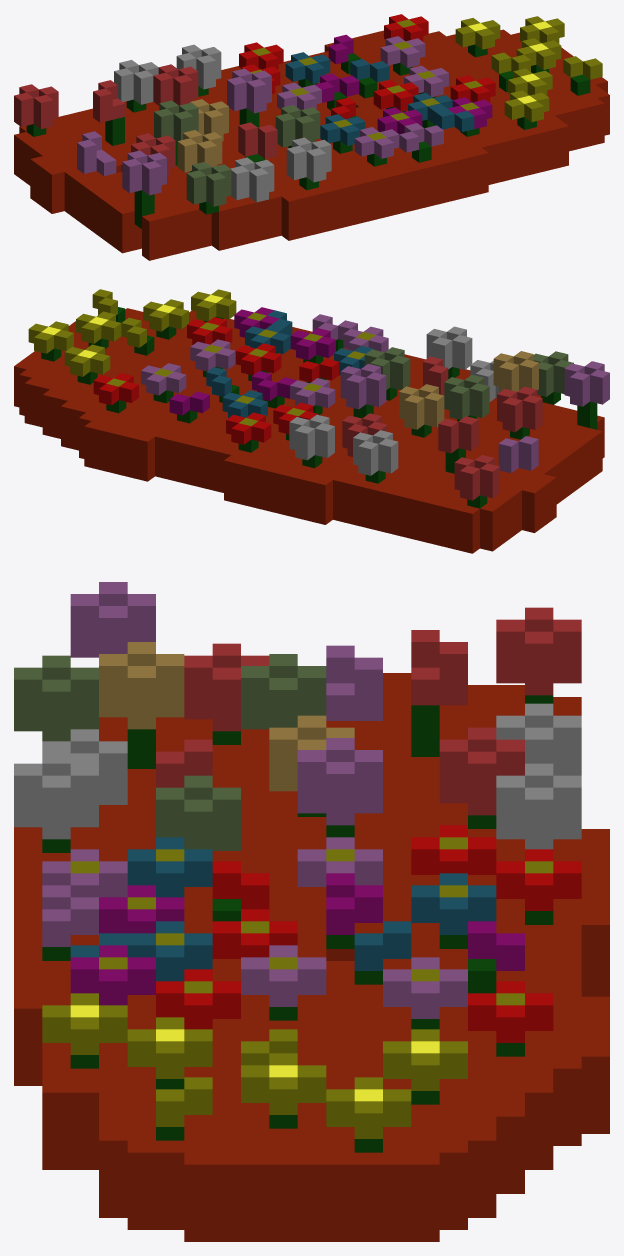
The model's file is Blumenbeet75.obj.
3 renders of one model, top to bottom at view 1: azimuth 30°, elevation 25°; view 2: azimuth 150°, elevation 25°; view 3: azimuth 270°, elevation 25°, orthographic. The views are drawn at different scales.
Bounding box in the file's own units: 4.1 × 0.7 × 2.1.
1 material, 1 textured.
